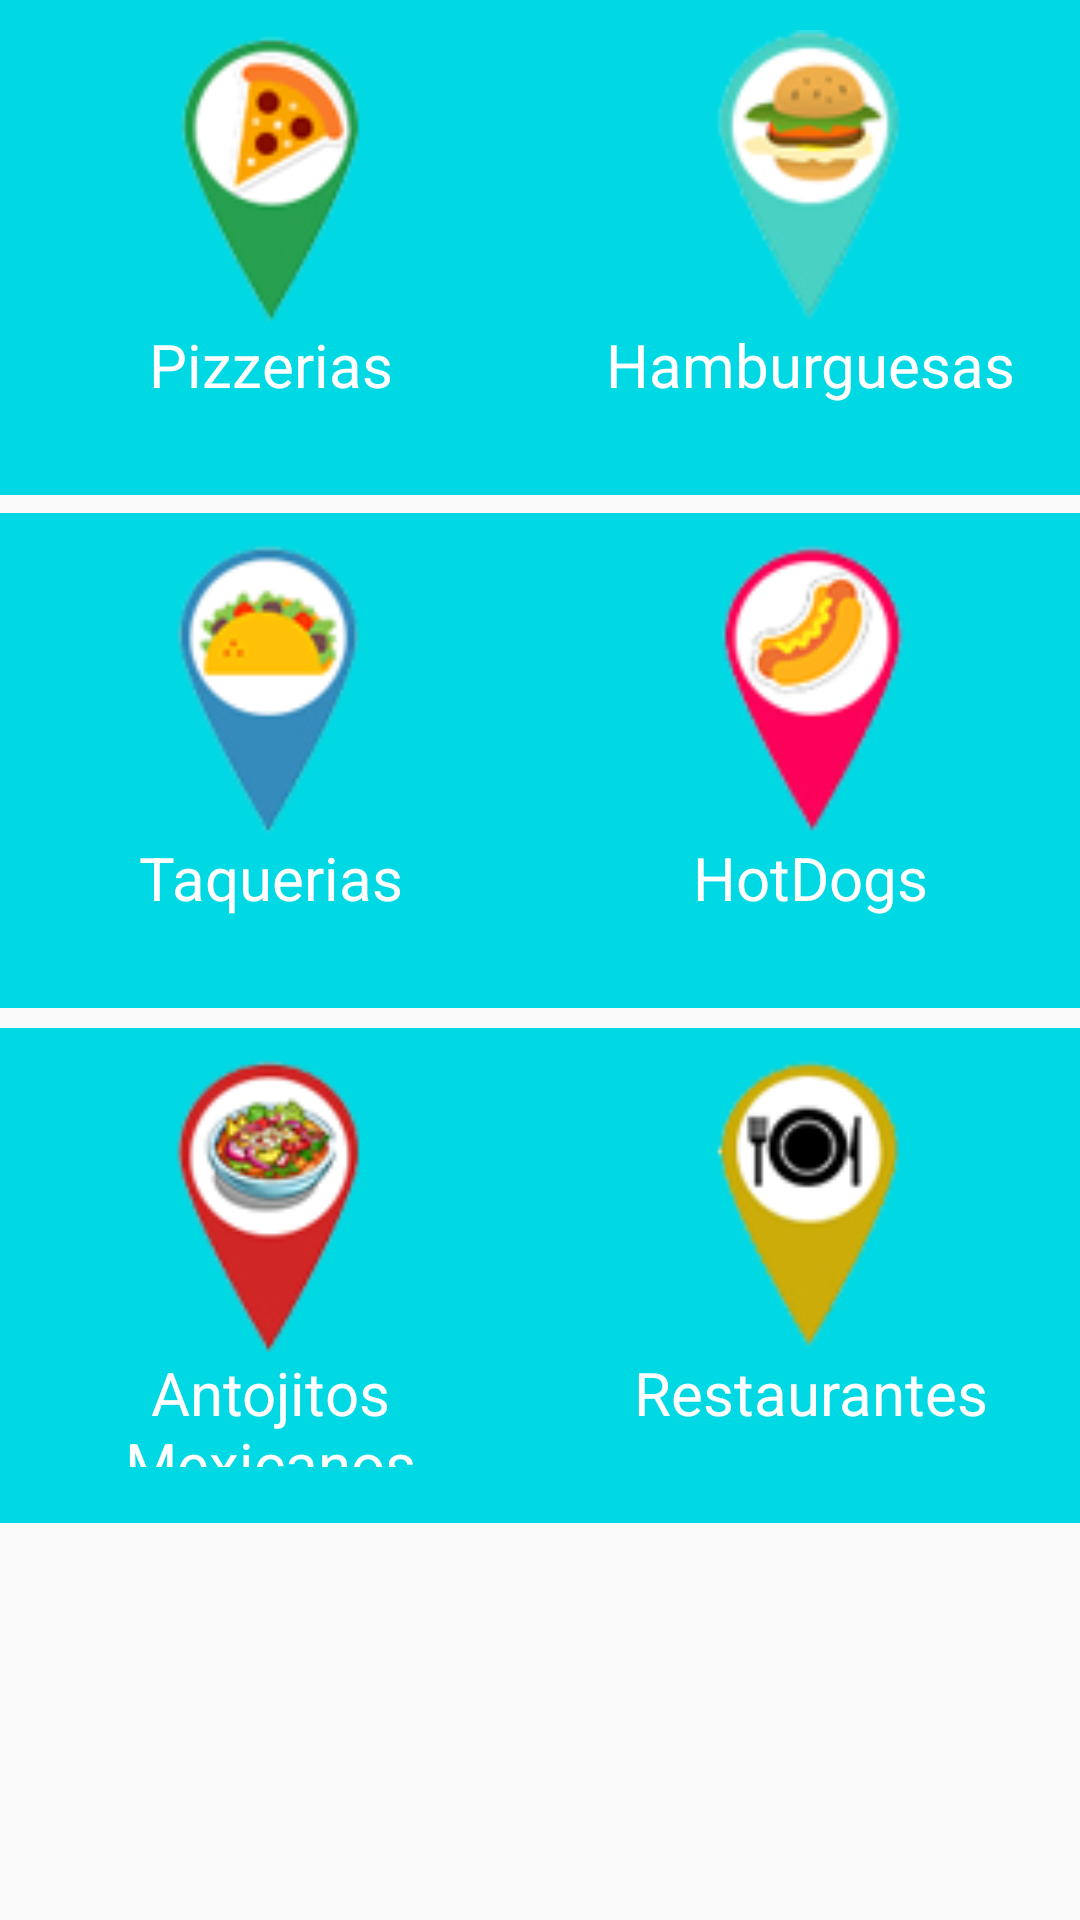

Named icons in this screenshot (1080x1920) and their bounding boxes, bbox=(x1, y1, x2, y2):
pozole: bbox=(177, 1061, 360, 1352)
